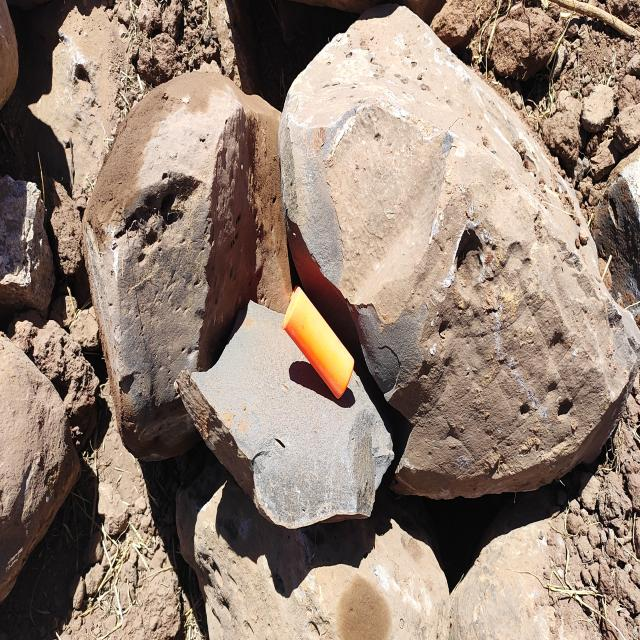Orange_hammer: (282, 284, 355, 400)
